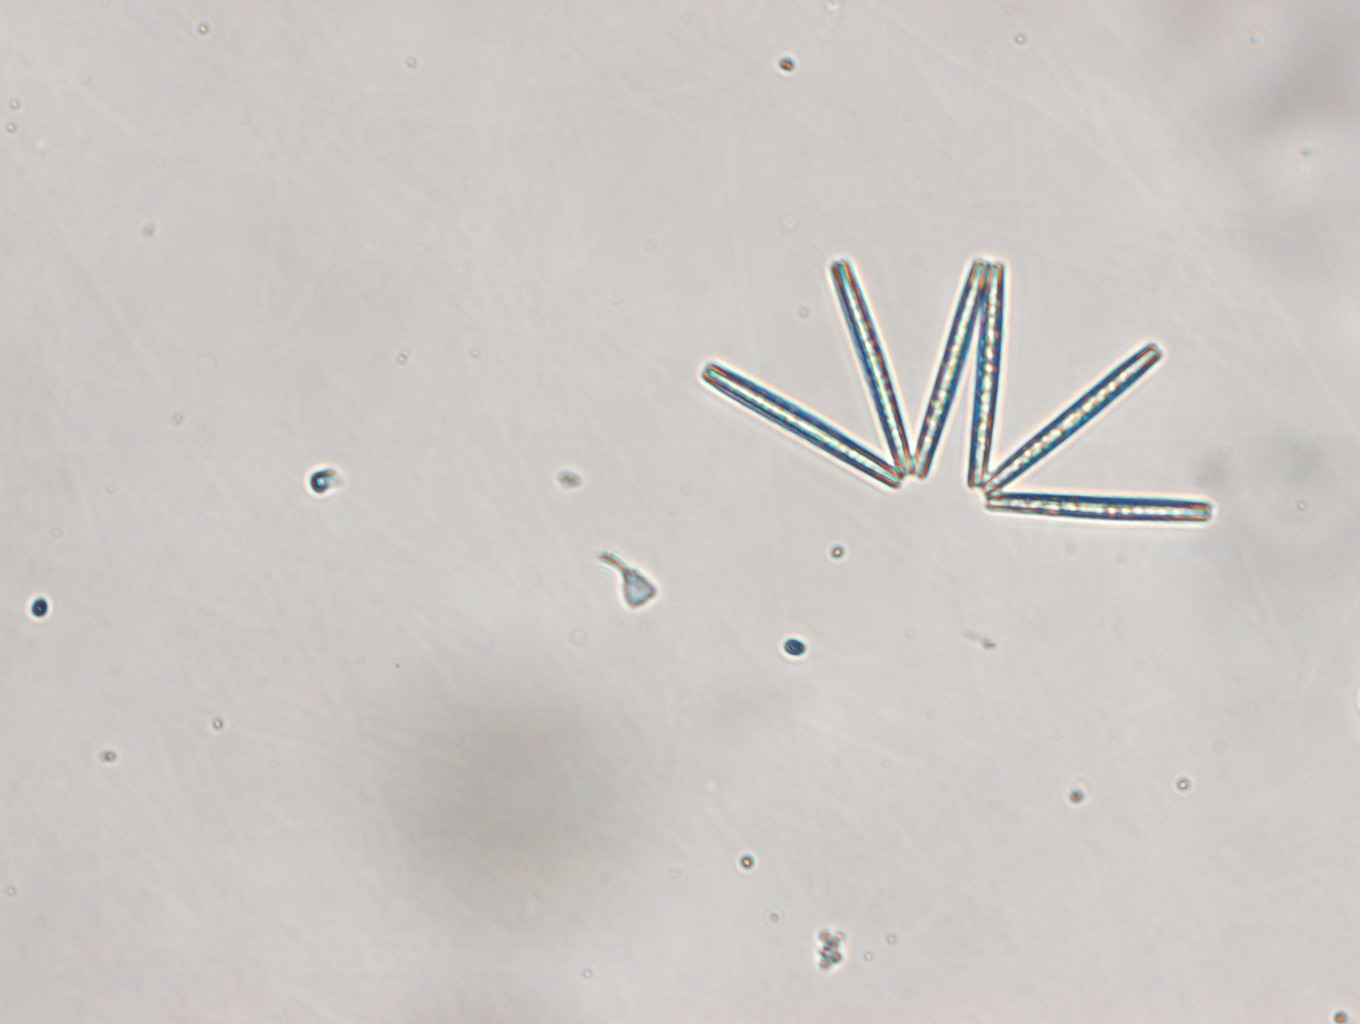thalassionema nitzschioides: (698, 255, 1213, 524)
